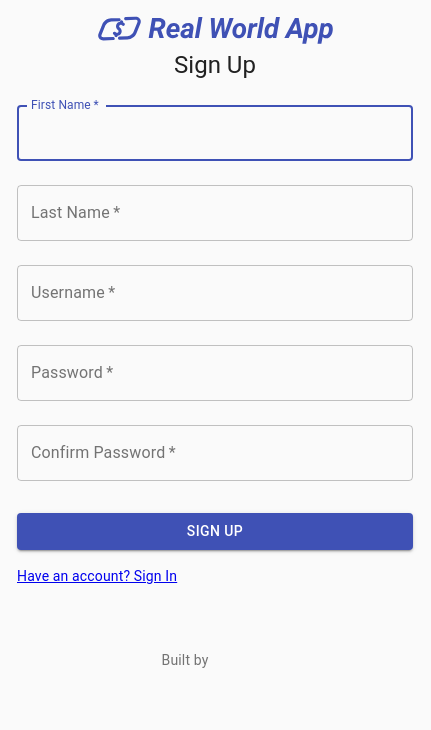
E2E Homepage Real World › should display an error in red when you enter a wrong confirm Password
Type "Password123" into the password field labelled "Password *" at (215, 373), box 17,345 -> 413,401
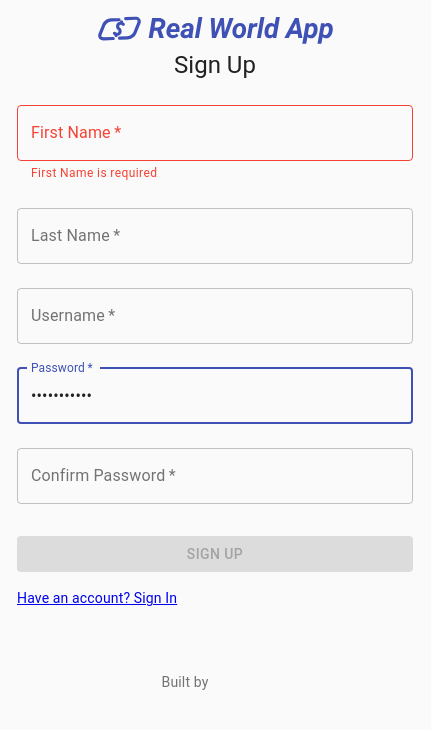
Type "WrongPassword123" into the password field with id "confirmPassword" at (215, 476), box 17,448 -> 413,504
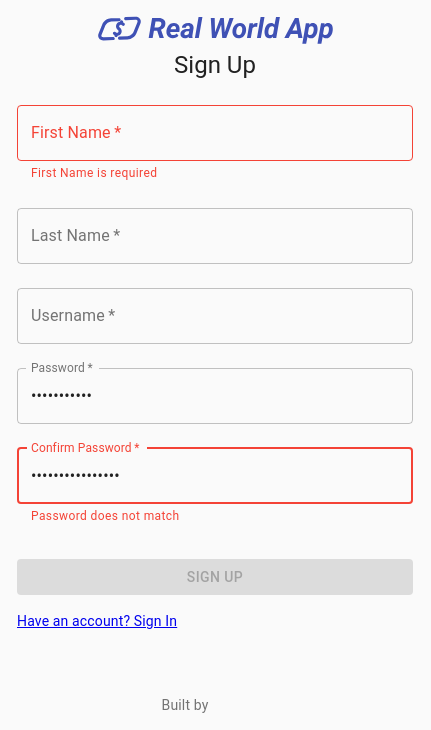
Expected: the text "Password does not match" is shown, 31,509 -> 180,523
